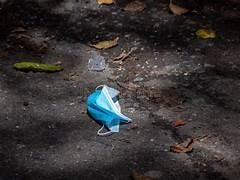Mask: (87, 85, 131, 135)
